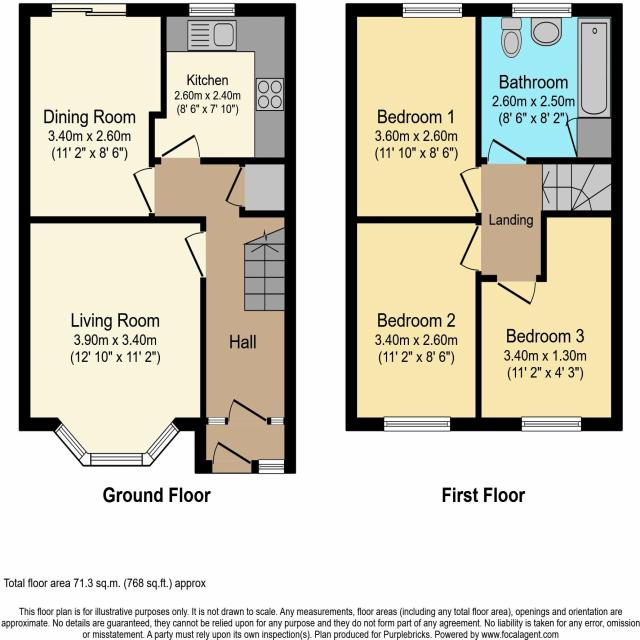DOOR: (210, 437, 254, 474), (159, 132, 203, 165), (495, 275, 539, 306), (225, 395, 270, 425), (182, 229, 207, 278), (458, 223, 482, 274), (458, 164, 482, 215), (131, 165, 155, 216), (224, 166, 245, 210)
ROOM: (17, 216, 206, 468), (19, 2, 168, 224), (475, 209, 623, 432), (344, 2, 482, 225), (344, 216, 482, 431), (148, 2, 296, 165)
SLIDING DOOR: (47, 2, 129, 22)
WINDOW: (52, 420, 182, 467), (401, 1, 464, 20), (520, 415, 583, 433), (511, 1, 573, 19), (187, 2, 237, 17), (257, 457, 285, 475)
